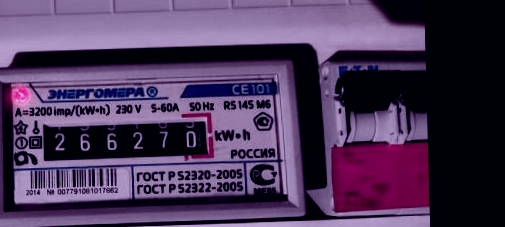0: (184, 128, 196, 149)
2: (52, 130, 66, 152), (131, 129, 143, 151)
6: (78, 132, 91, 152), (104, 131, 117, 150)
7: (156, 129, 169, 150)
screen: (32, 108, 221, 170)
